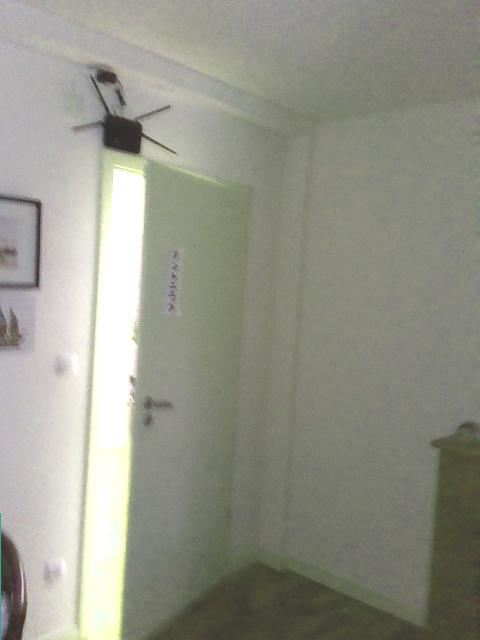semi_door: (76, 145, 249, 639)
